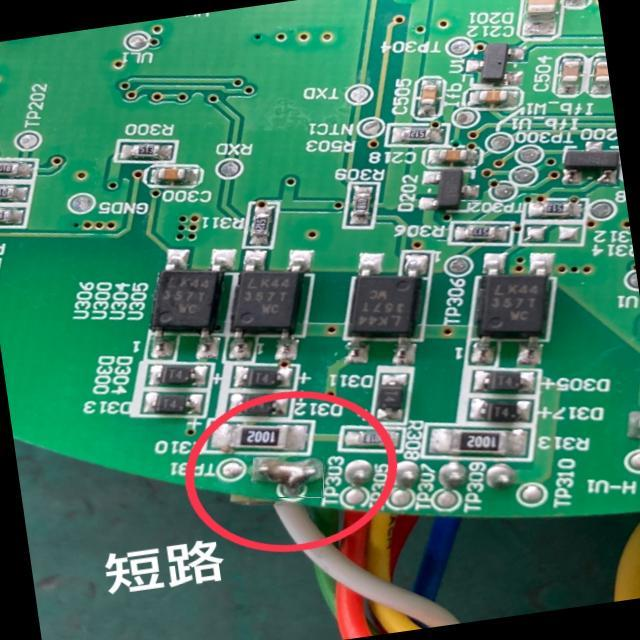Short_circuit: (254, 458, 322, 496)
